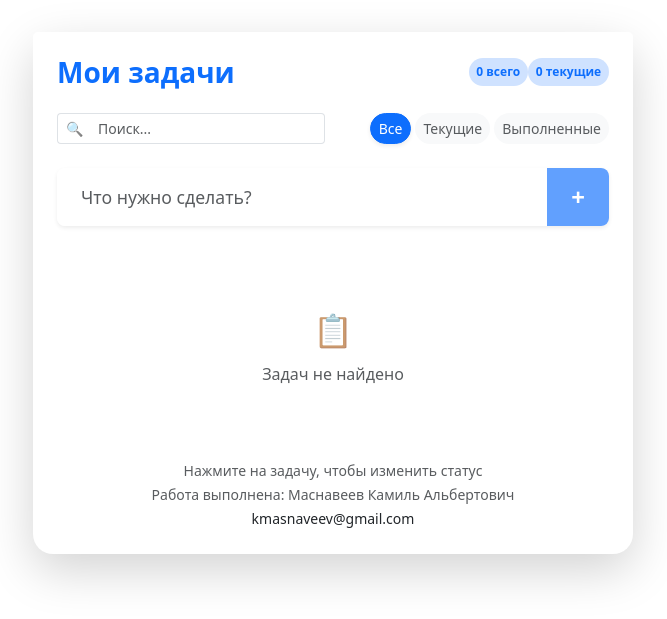
TodoApp Component › adds a new todo
Type "New Task" into the field with placeholder "Что нужно сделать?" at [303, 197], box x1=57 y1=168 x2=548 y2=226
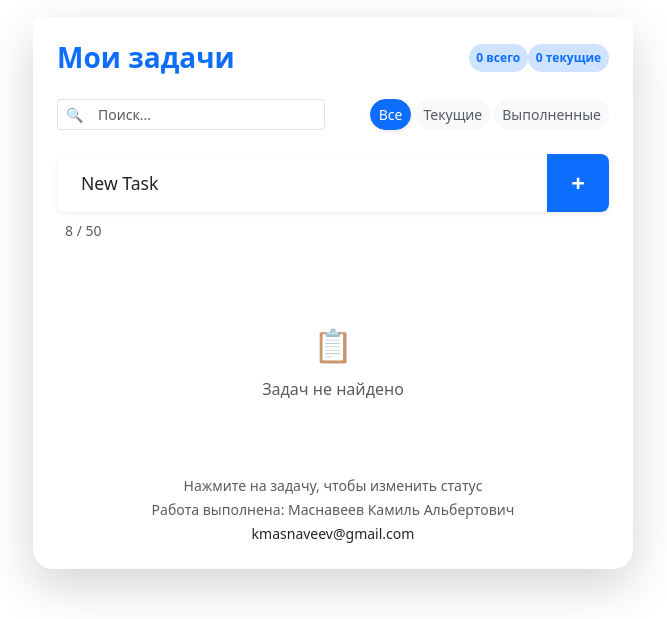
Click the button "+" at [578, 183], box x1=547 y1=154 x2=609 y2=212
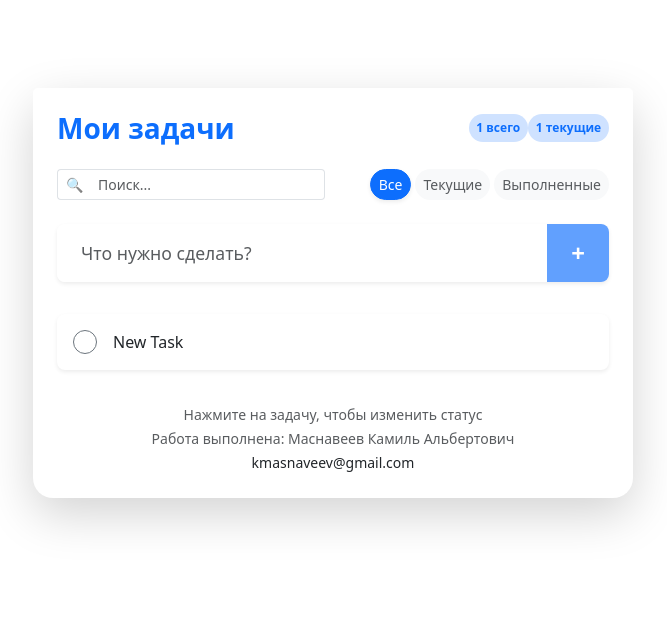
Now the text "New Task" is shown, box x1=113 y1=330 x2=183 y2=354
